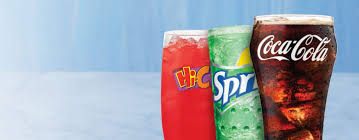coke: (251, 11, 338, 139)
